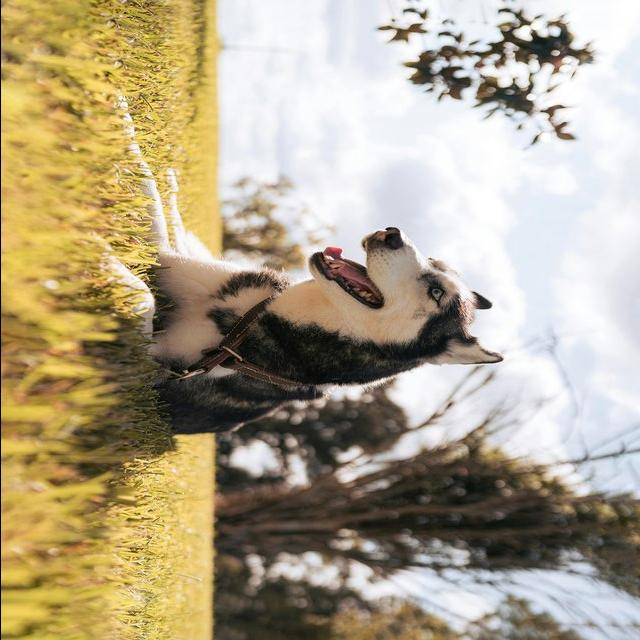husky: (96, 86, 504, 438)
